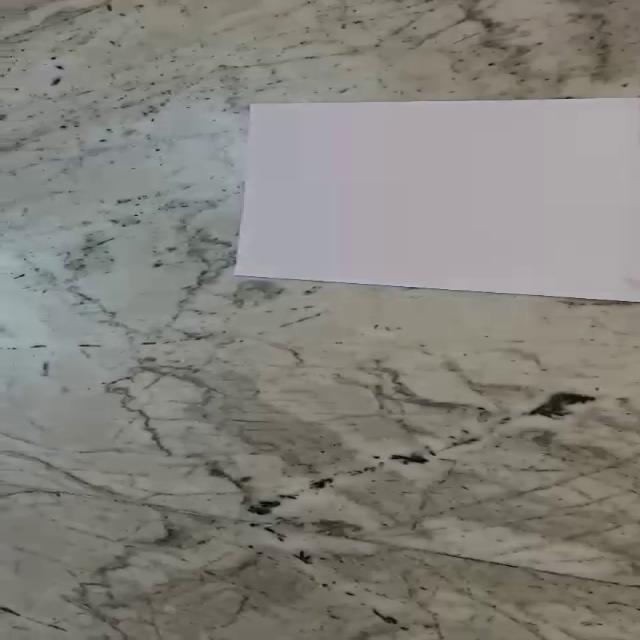road: (235, 98, 640, 304)
